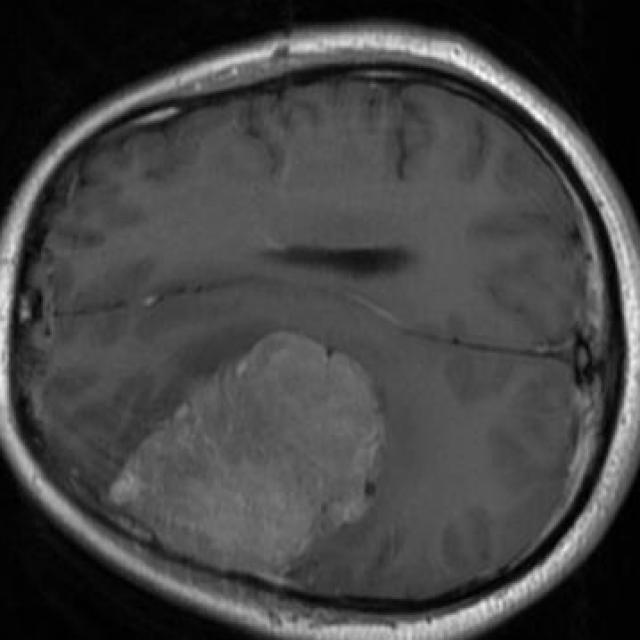meningioma: (109, 332, 380, 574)
